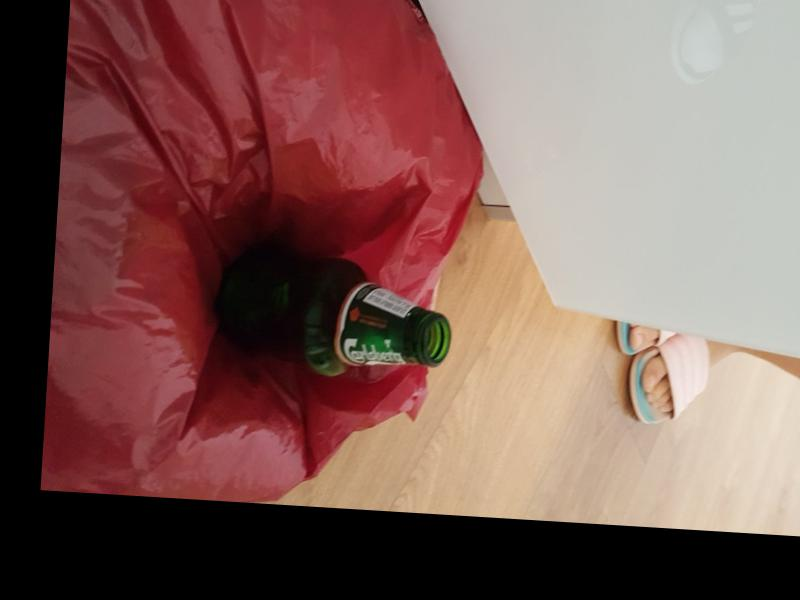Beer: (211, 241, 454, 382)
